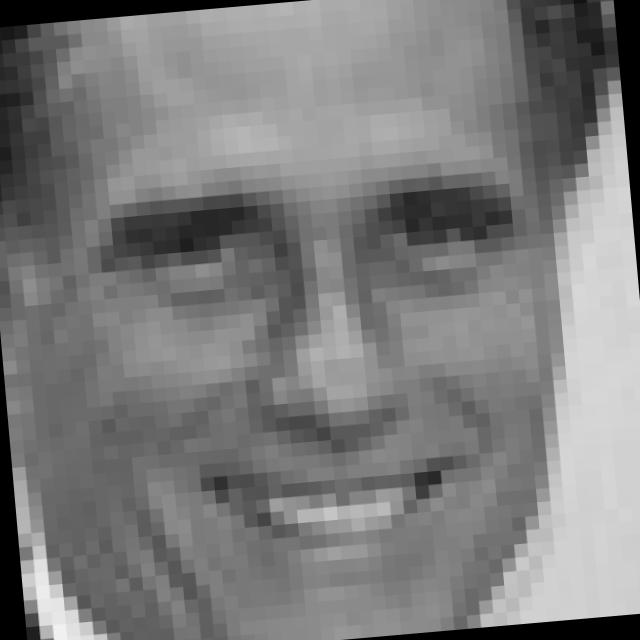happy: (74, 156, 547, 611)
